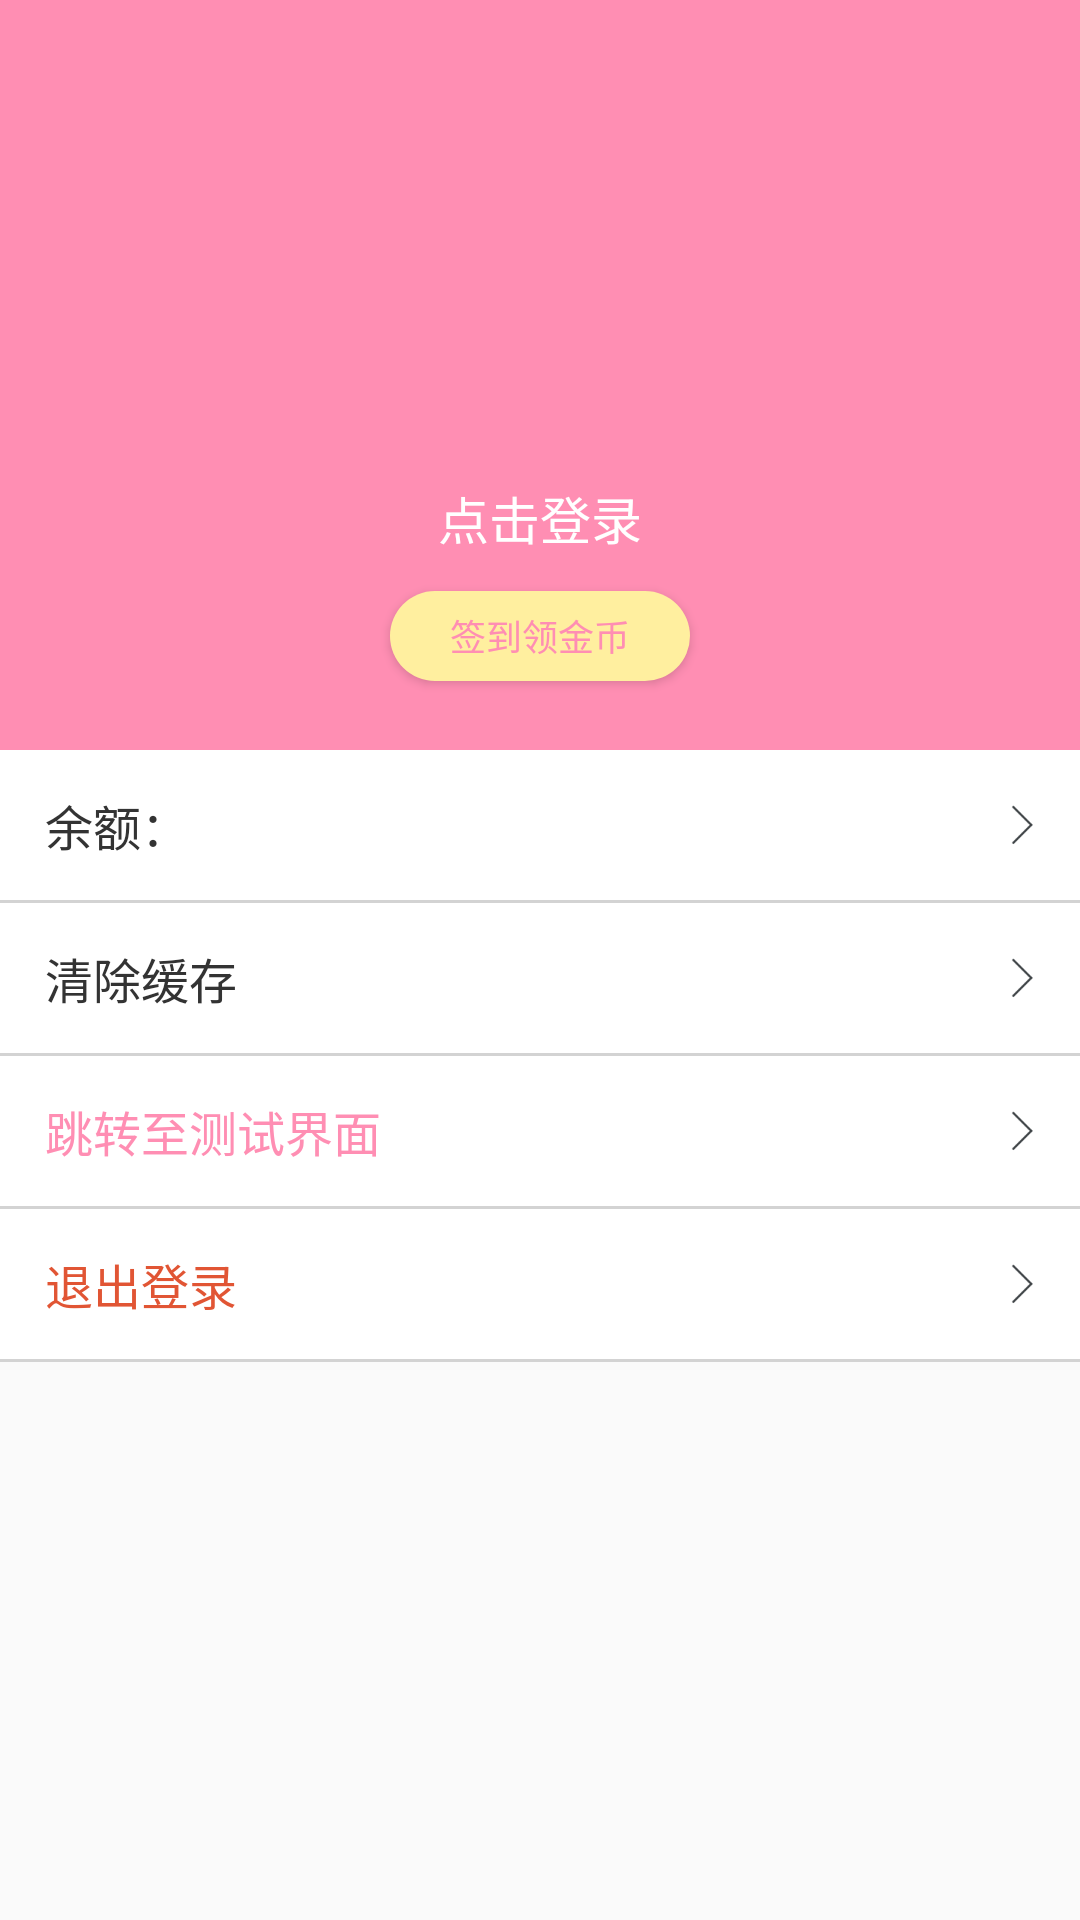

Named icons in this screenshot (1080x1920) and their centers, point (x, y):
arrow right: point (1022, 824), point (1022, 977), point (1022, 1130), point (1022, 1283)
